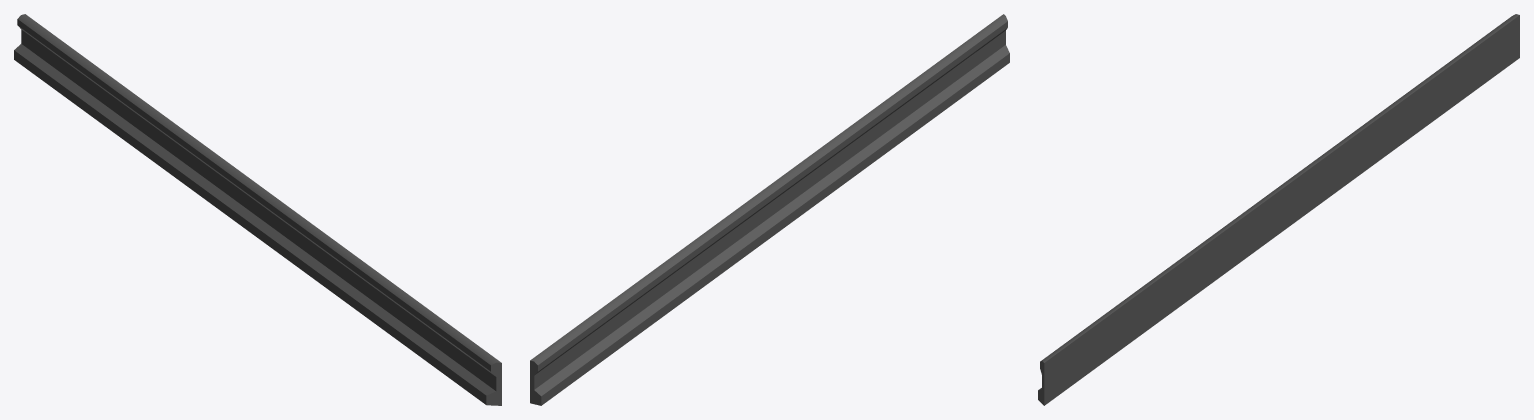
Rendered from Real_Baseboards_AngledRight_ND (1).fbx.
3 views of the same model, side by side, from view 1: azimuth 30°, elevation 25°; view 2: azimuth 150°, elevation 25°; view 3: azimuth 330°, elevation 25° (orthographic).
Parts seen in each view (by area): view 1: Baseboards_AngledRight; view 2: Baseboards_AngledRight; view 3: Baseboards_AngledRight.
Boxes of the visible parts, <box> form: Baseboards_AngledRight: <box>14,14,501,405</box>; Baseboards_AngledRight: <box>530,14,1009,405</box>; Baseboards_AngledRight: <box>1038,14,1519,405</box>.
Size of the model in its own units: 1.37 by 5 by 100.
Materials: 1 (1 with a texture image).
